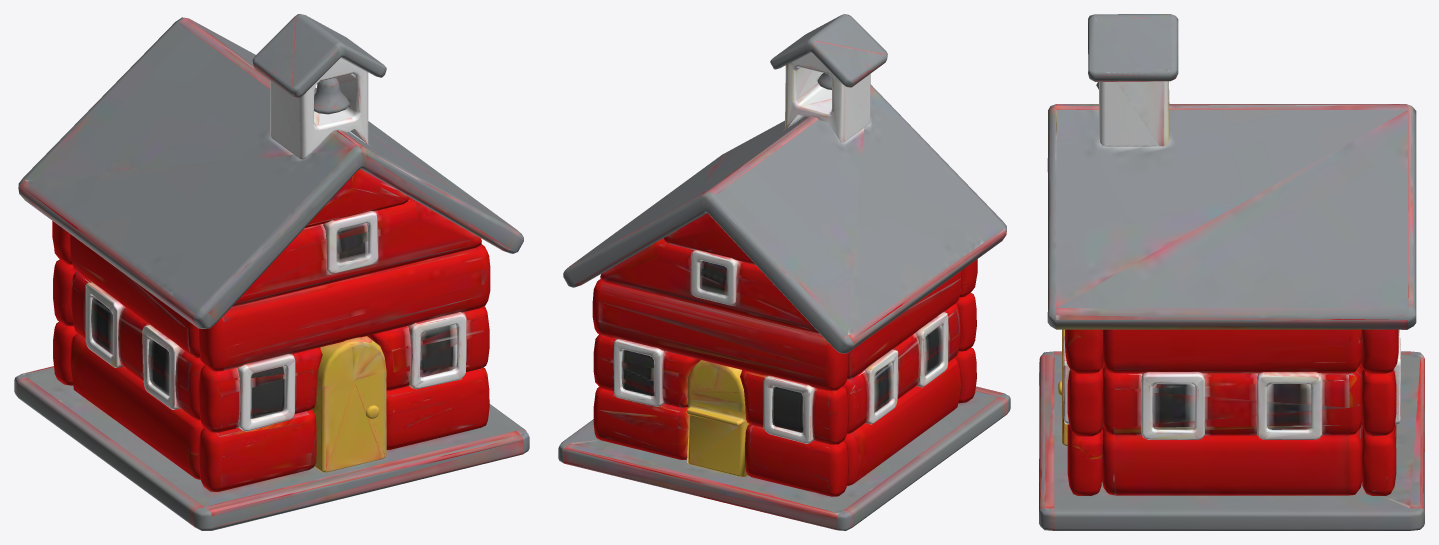
File: bld-school.glb
The picture shows the model from 3 angles, left to right: view 1: azimuth 30°, elevation 25°; view 2: azimuth 150°, elevation 25°; view 3: azimuth 270°, elevation 25°; orthographic projection. The views are drawn at different scales.
Bounding box in the file's own units: 0.8057 × 1 × 0.8026.
Materials: 1 (1 with a texture image).
